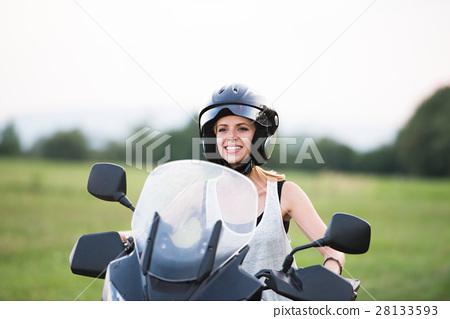helmet: (198, 83, 286, 138)
